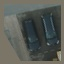car: (23, 19, 36, 52), (45, 12, 58, 45)
